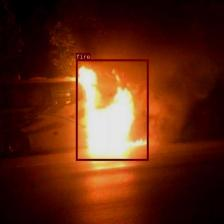fire: (76, 59, 148, 160)
